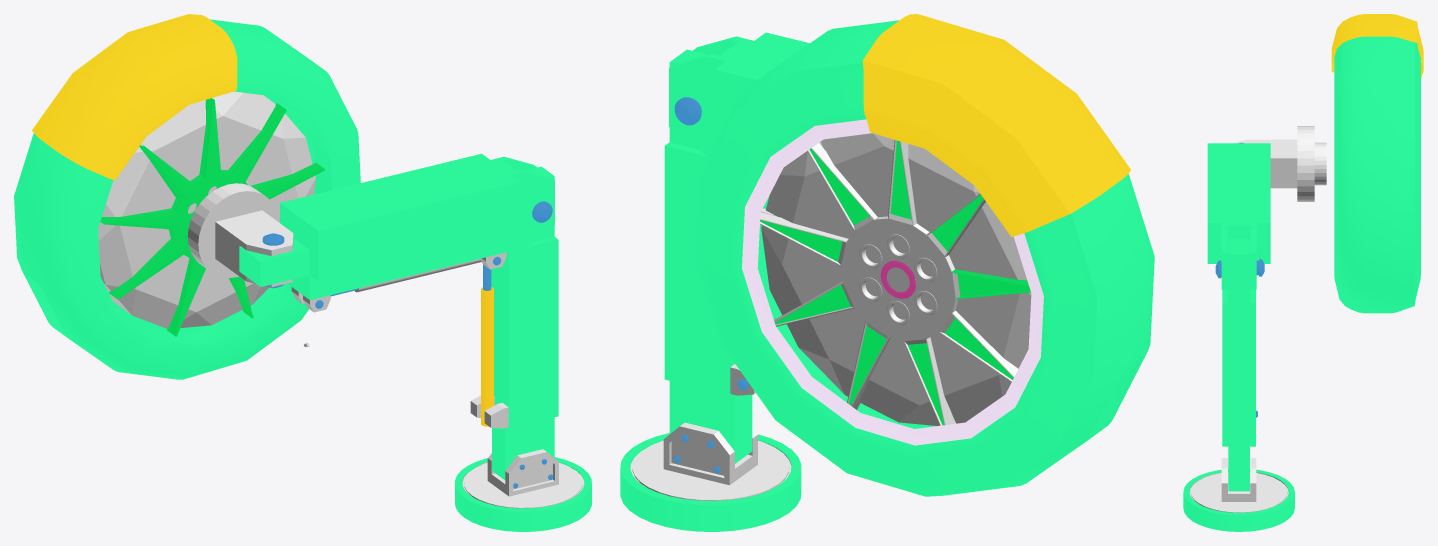
3 views of the same model, side by side, from view 1: azimuth 30°, elevation 25°; view 2: azimuth 150°, elevation 25°; view 3: azimuth 270°, elevation 25° (orthographic). The views are drawn at different scales.
Parts seen in each view (by area): view 1: ban_2.048, Plane.020, ban_2.049, ban_2.054, Cube.014, Cylinder.053, Plane.018, Circle.032, Circle.034, Plane.081, Cylinder.005, Circle.038 (+1 smaller); view 2: ban_2.048, ban_2.049, ban_2.054, Cylinder.052, Cube.014, Plane.018, Plane.020, Circle.032, Circle.038; view 3: ban_2.048, Plane.020, Cube.014, Plane.018, Circle.032, ban_2.054, Circle.034, Plane.081.
Boxes of the visible parts, x1,y1,x2,y2 form: ban_2.048: [14, 19, 360, 379]; Plane.020: [239, 153, 554, 299]; ban_2.049: [98, 91, 315, 328]; ban_2.054: [32, 14, 237, 180]; Cube.014: [491, 166, 558, 479]; Cylinder.053: [100, 98, 324, 336]; Plane.018: [462, 449, 584, 508]; Circle.032: [455, 457, 591, 531]; Circle.034: [187, 183, 278, 277]; Plane.081: [215, 210, 293, 287]; Cylinder.005: [481, 287, 493, 426]; Circle.038: [262, 201, 553, 488]; ban_2.048: [695, 20, 1154, 496]; ban_2.049: [761, 133, 1031, 425]; ban_2.054: [863, 14, 1130, 237]; Cylinder.052: [760, 140, 1030, 425]; Cube.014: [664, 49, 752, 463]; Plane.018: [630, 422, 791, 500]; Plane.020: [669, 32, 809, 156]; Circle.032: [620, 433, 801, 531]; Circle.038: [674, 97, 748, 473]; ban_2.048: [1334, 36, 1420, 313]; Plane.020: [1207, 143, 1270, 289]; Cube.014: [1222, 238, 1255, 491]; Plane.018: [1189, 458, 1288, 512]; Circle.032: [1183, 469, 1294, 531]; ban_2.054: [1331, 14, 1423, 78]; Circle.034: [1297, 126, 1326, 201]; Plane.081: [1233, 139, 1297, 188].
Size of the model in its own units: 22.62 by 21.78 by 12.37.
